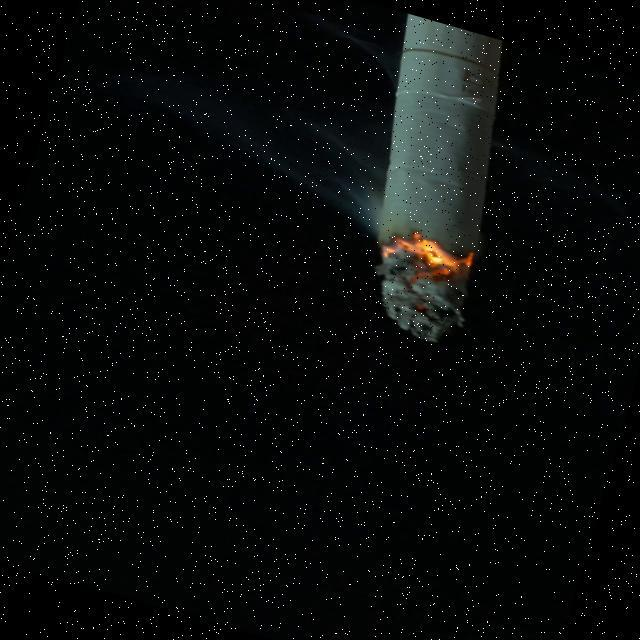cigarette: (320, 12, 546, 362)
